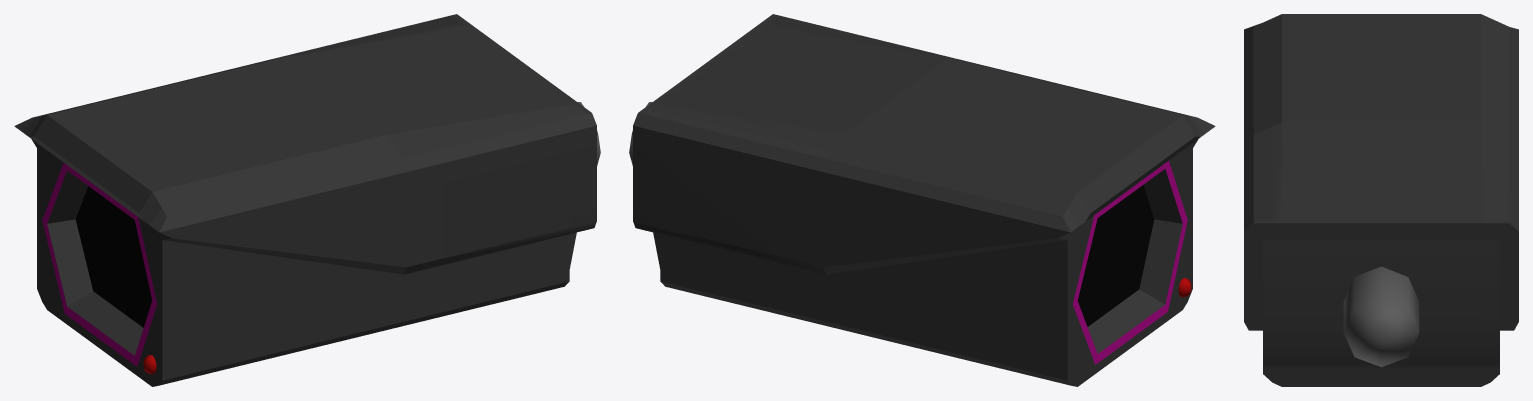
Rendered from CameraMain.fbx.
The picture shows the model from 3 angles, left to right: view 1: azimuth 30°, elevation 25°; view 2: azimuth 150°, elevation 25°; view 3: azimuth 270°, elevation 25°; orthographic projection. The views are drawn at different scales.
Visible parts, largest first — view 1: MainCamera; view 2: MainCamera; view 3: MainCamera.
Boxes of the visible parts, left/top/right/bottom form: MainCamera: left=14, top=14, right=600, bottom=386; MainCamera: left=629, top=14, right=1215, bottom=386; MainCamera: left=1244, top=14, right=1518, bottom=386.
Bounding box in the file's own units: 118 × 43 × 58.
